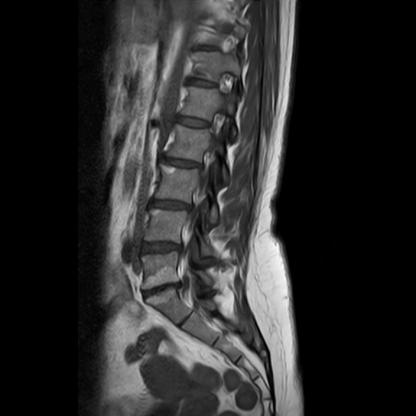Disc Bulgerotation: (144, 238, 185, 259), (143, 281, 184, 301)
